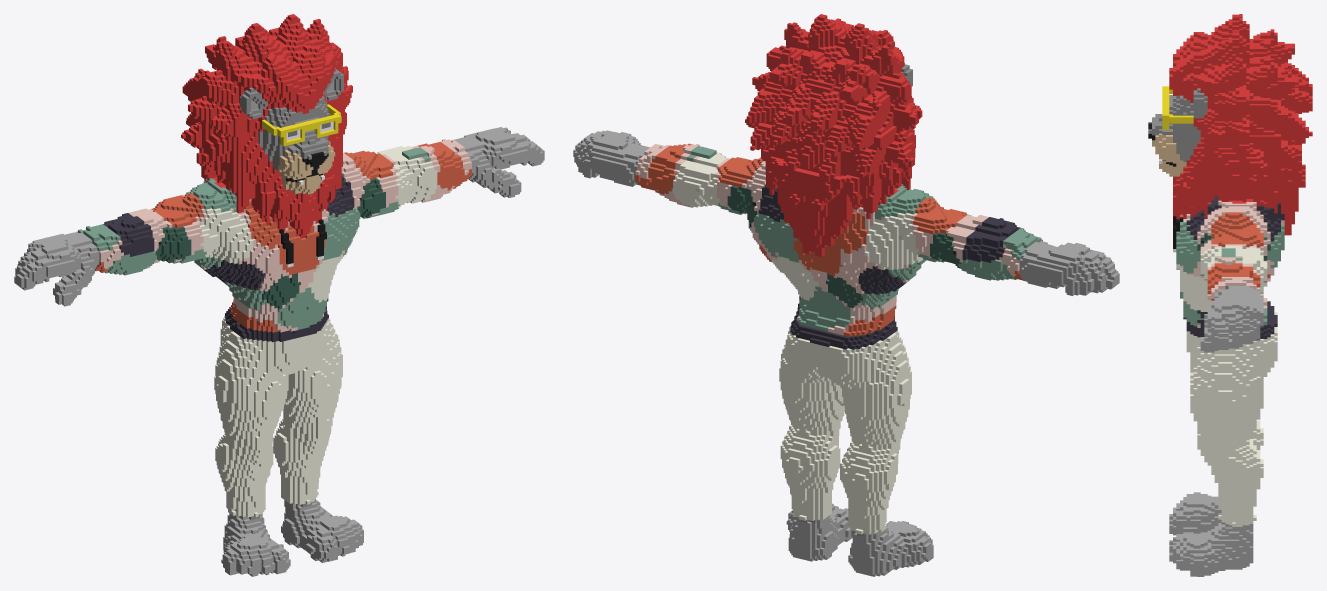
The picture shows the model from 3 angles, left to right: view 1: azimuth 30°, elevation 25°; view 2: azimuth 150°, elevation 25°; view 3: azimuth 270°, elevation 25°; orthographic projection. The views are drawn at different scales.
Visible parts, largest first — view 1: standard; view 2: standard; view 3: standard.
Boxes of the visible parts, <box> form: standard: <box>14,14,544,576</box>; standard: <box>573,14,1119,576</box>; standard: <box>1148,14,1312,576</box>.
Size of the model in its own units: 17.2 by 16.5 by 4.7.
Materials: 5 (5 with a texture image).
